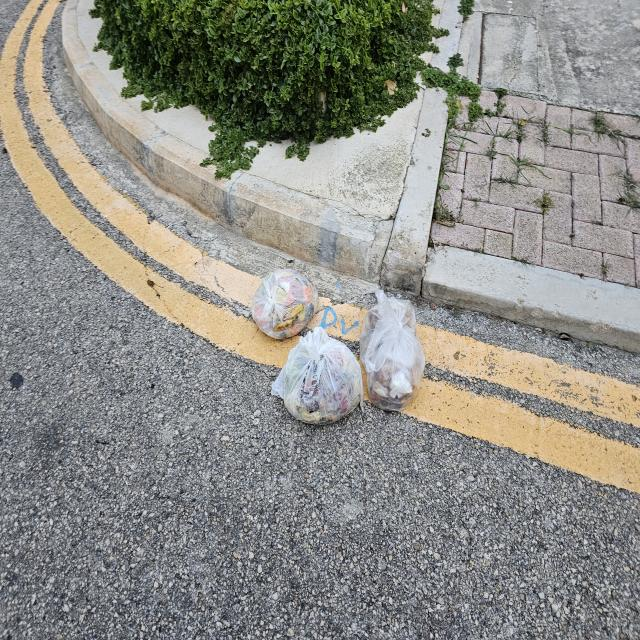white_bag: (268, 324, 368, 428), (358, 288, 428, 415), (250, 265, 320, 342)
